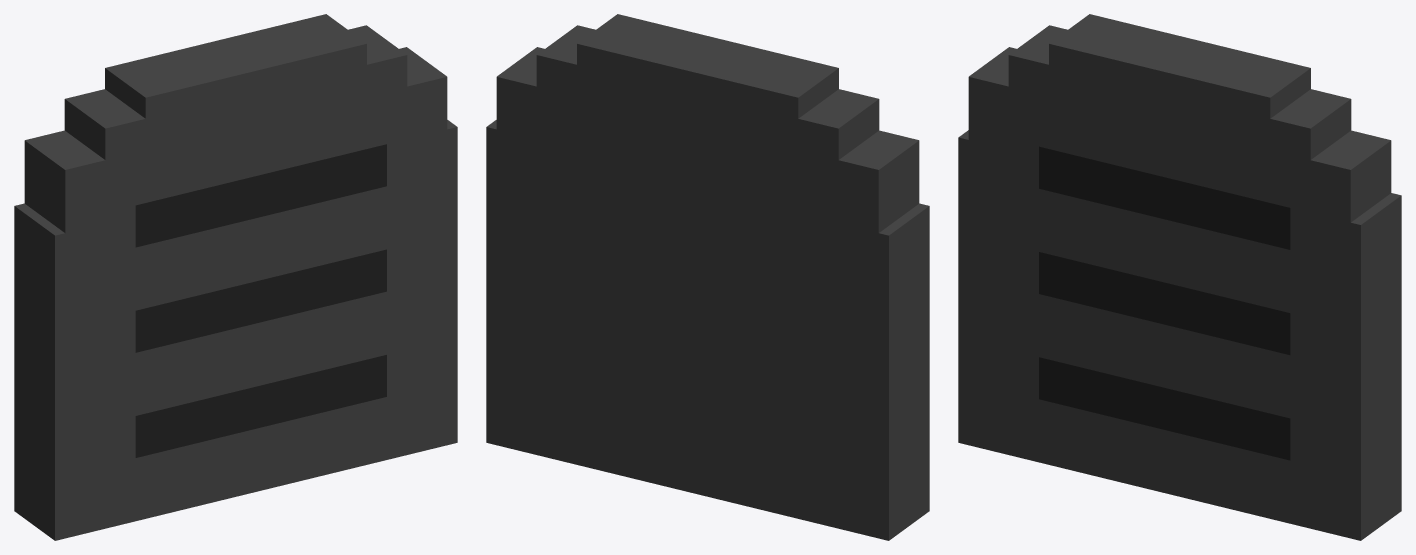
File: GraveStone.obj
3 views of the same model, side by side, from view 1: azimuth 30°, elevation 25°; view 2: azimuth 150°, elevation 25°; view 3: azimuth 330°, elevation 25° (orthographic).
Bounding box in the file's own units: 4 × 4 × 0.7.
1 material, 1 textured.
